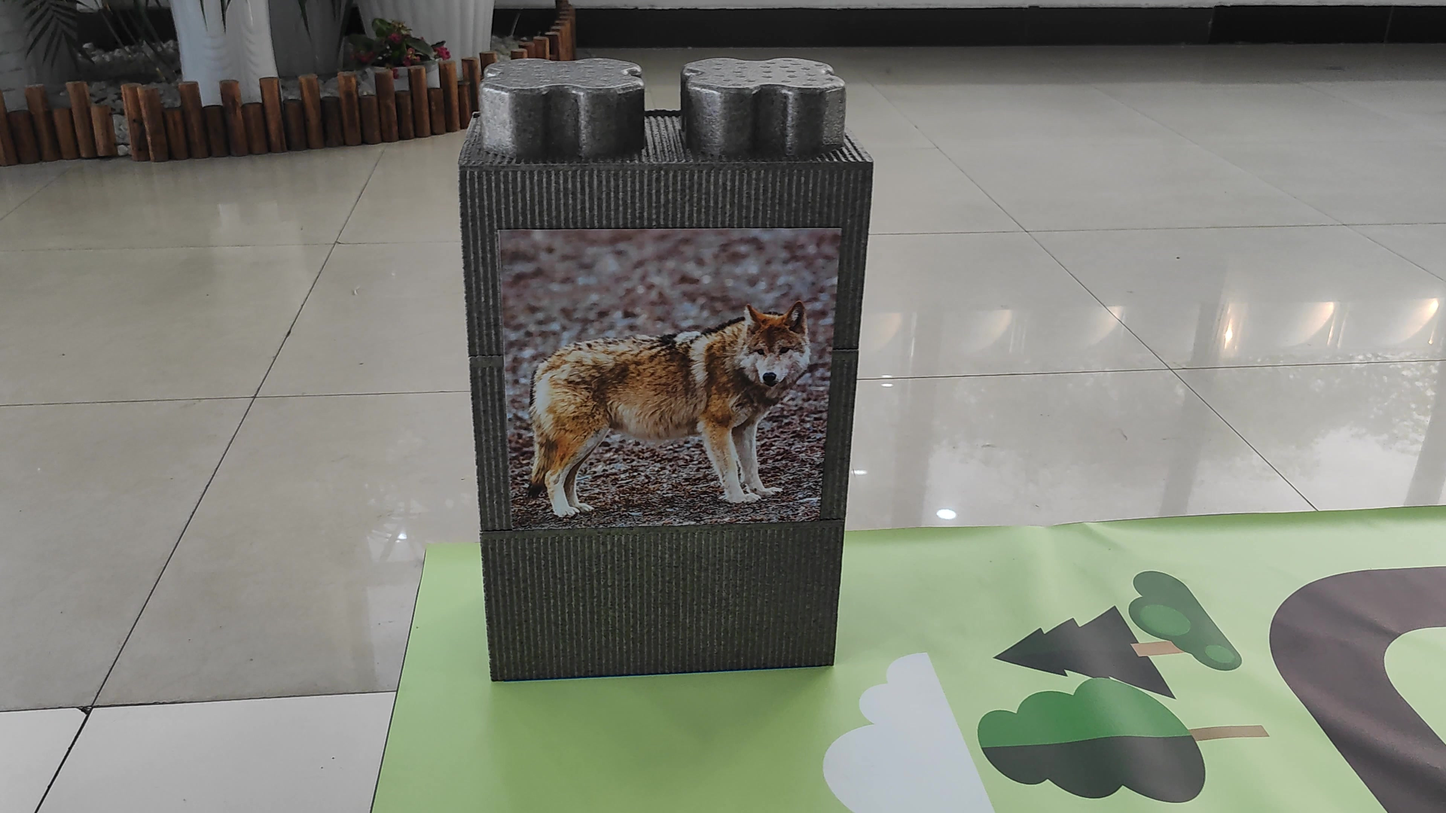wolf: (528, 281, 830, 531)
